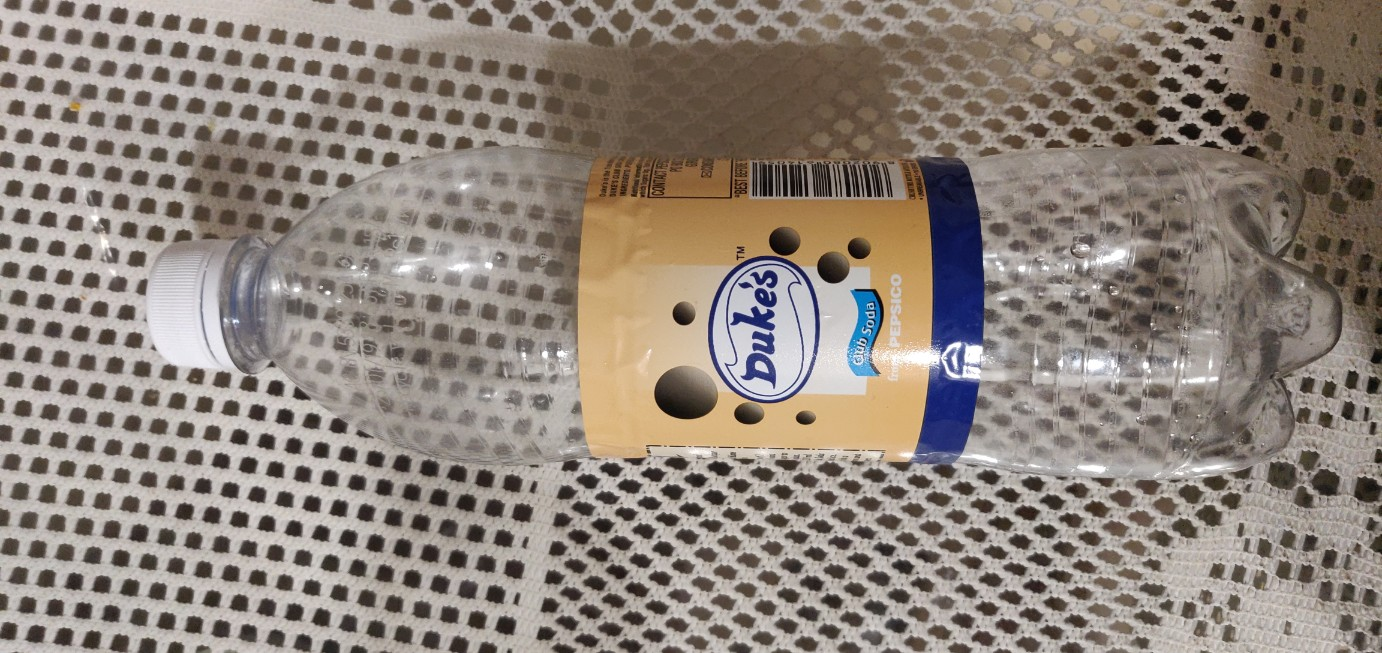Electronics: (116, 109, 1356, 499)
